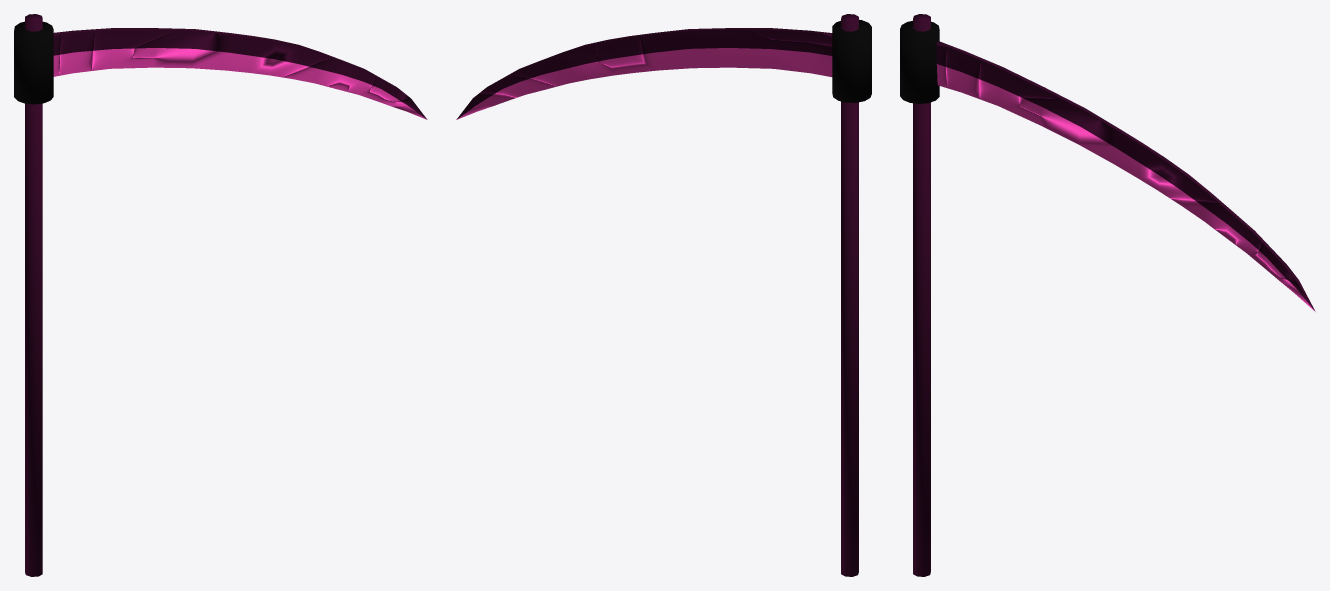
File: kama 1.fbx
3 renders of one model, left to right at view 1: azimuth 30°, elevation 25°; view 2: azimuth 150°, elevation 25°; view 3: azimuth 330°, elevation 25°, orthographic.
Parts seen in each view (by area): view 1: 刃, obj1, obj2; view 2: 刃, obj1, obj2; view 3: 刃, obj1, obj2.
Boxes of the visible parts, x1,y1,x2,y2 form: 刃: (53, 28, 427, 119); obj1: (25, 14, 42, 576); obj2: (14, 21, 53, 104); 刃: (456, 28, 832, 119); obj1: (841, 14, 858, 576); obj2: (832, 19, 871, 102); 刃: (936, 41, 1315, 311); obj1: (913, 14, 930, 576); obj2: (900, 21, 939, 103).
Bounding box in the file's own units: 634 × 817 × 52.43.
